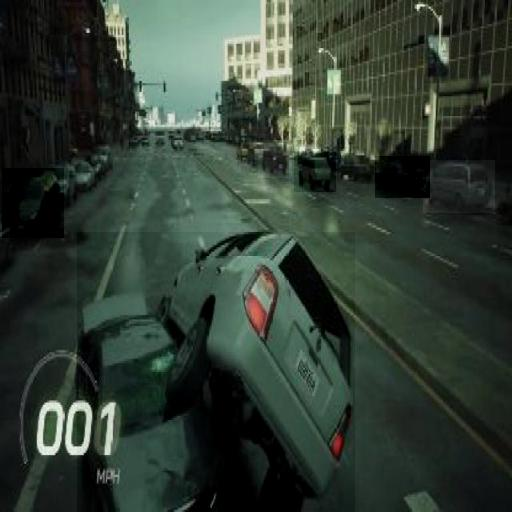小汽车: (2, 168, 64, 238), (423, 160, 495, 213), (375, 156, 430, 198), (294, 152, 336, 192), (258, 143, 292, 178)
小汽车撞小汽车: (77, 232, 355, 512)
